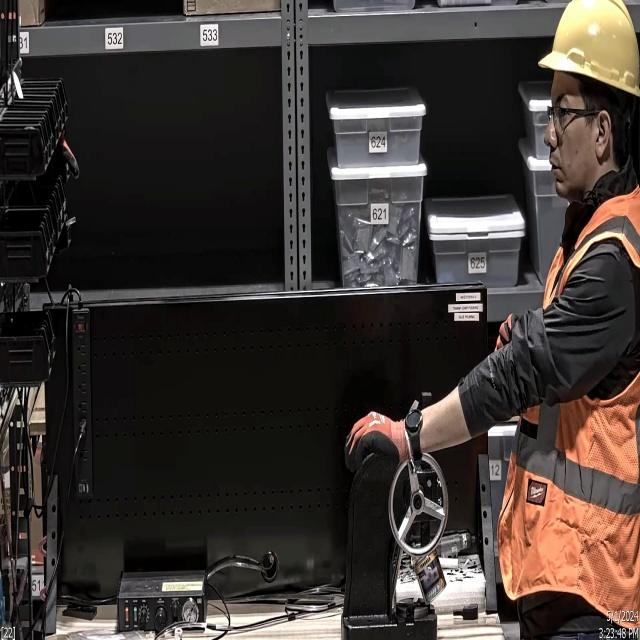gloves: (342, 412, 408, 474)
